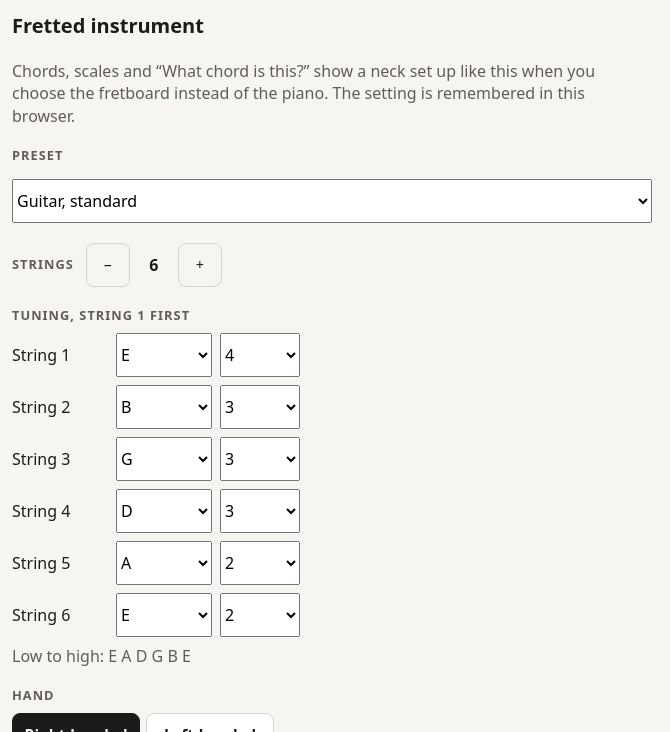
Test: the settings page › fills the strings in from a preset and remembers it
Select "Ukulele, GCEA" in the dropdown labelled "Preset" at {"x": 332, "y": 201}, box [12,179,652,223]
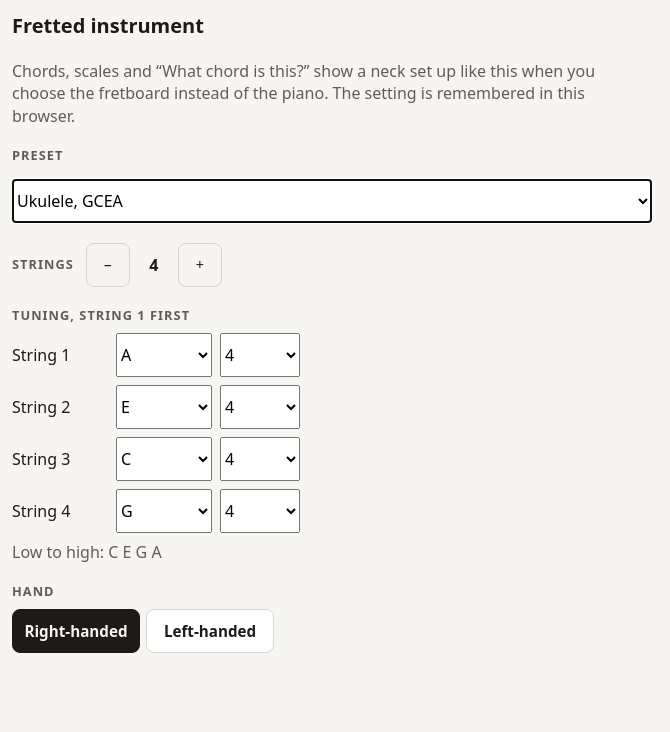
Select "Guitar, open G" in the dropdown labelled "Preset" at {"x": 332, "y": 201}, box [12,179,652,223]
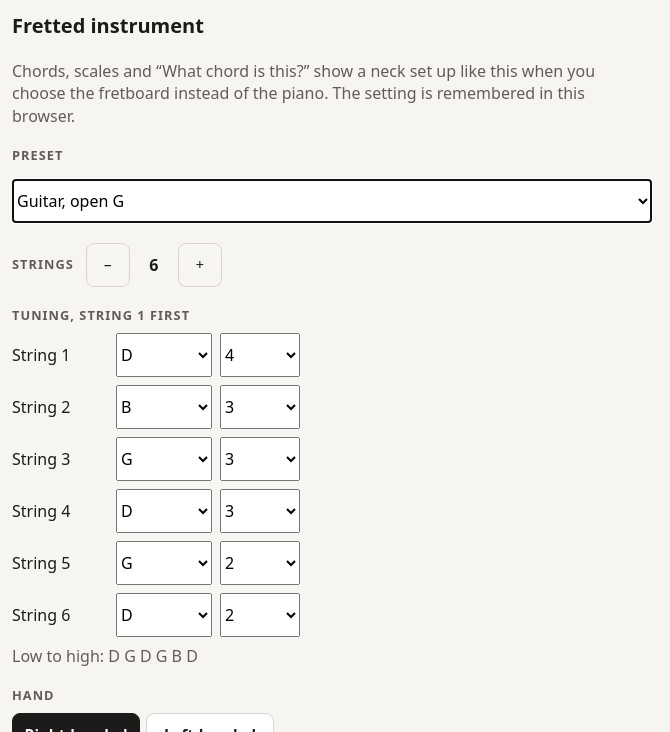
Check: the text "Low to high: D G D G B D" is shown, box [12,645,198,667]
